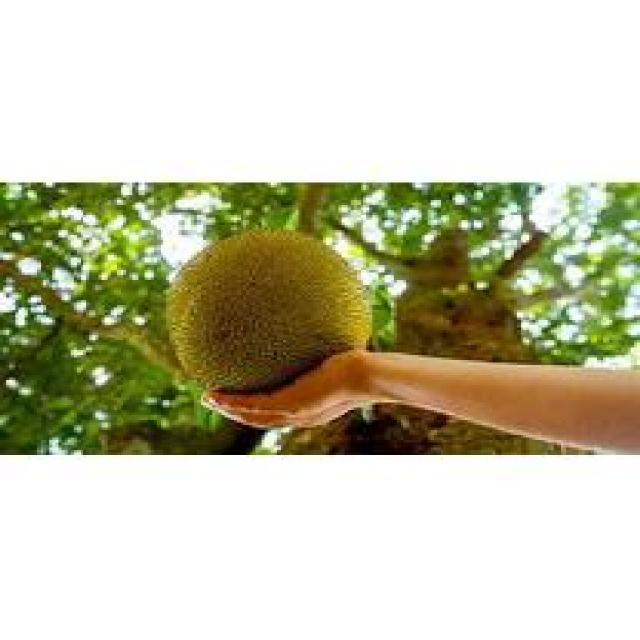Fruit: (160, 220, 382, 405)
